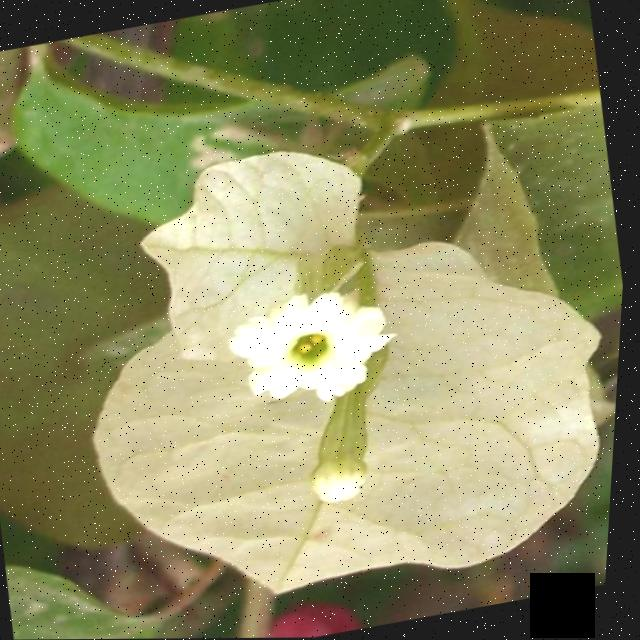bougainvillea: (0, 0, 640, 640)
